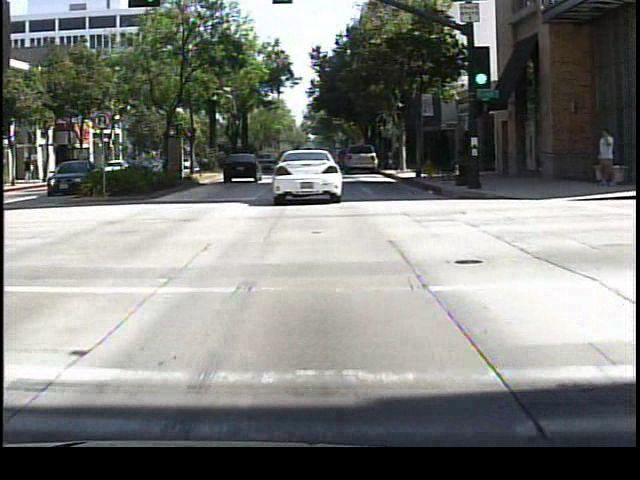person: (593, 124, 617, 192), (21, 152, 38, 186)
